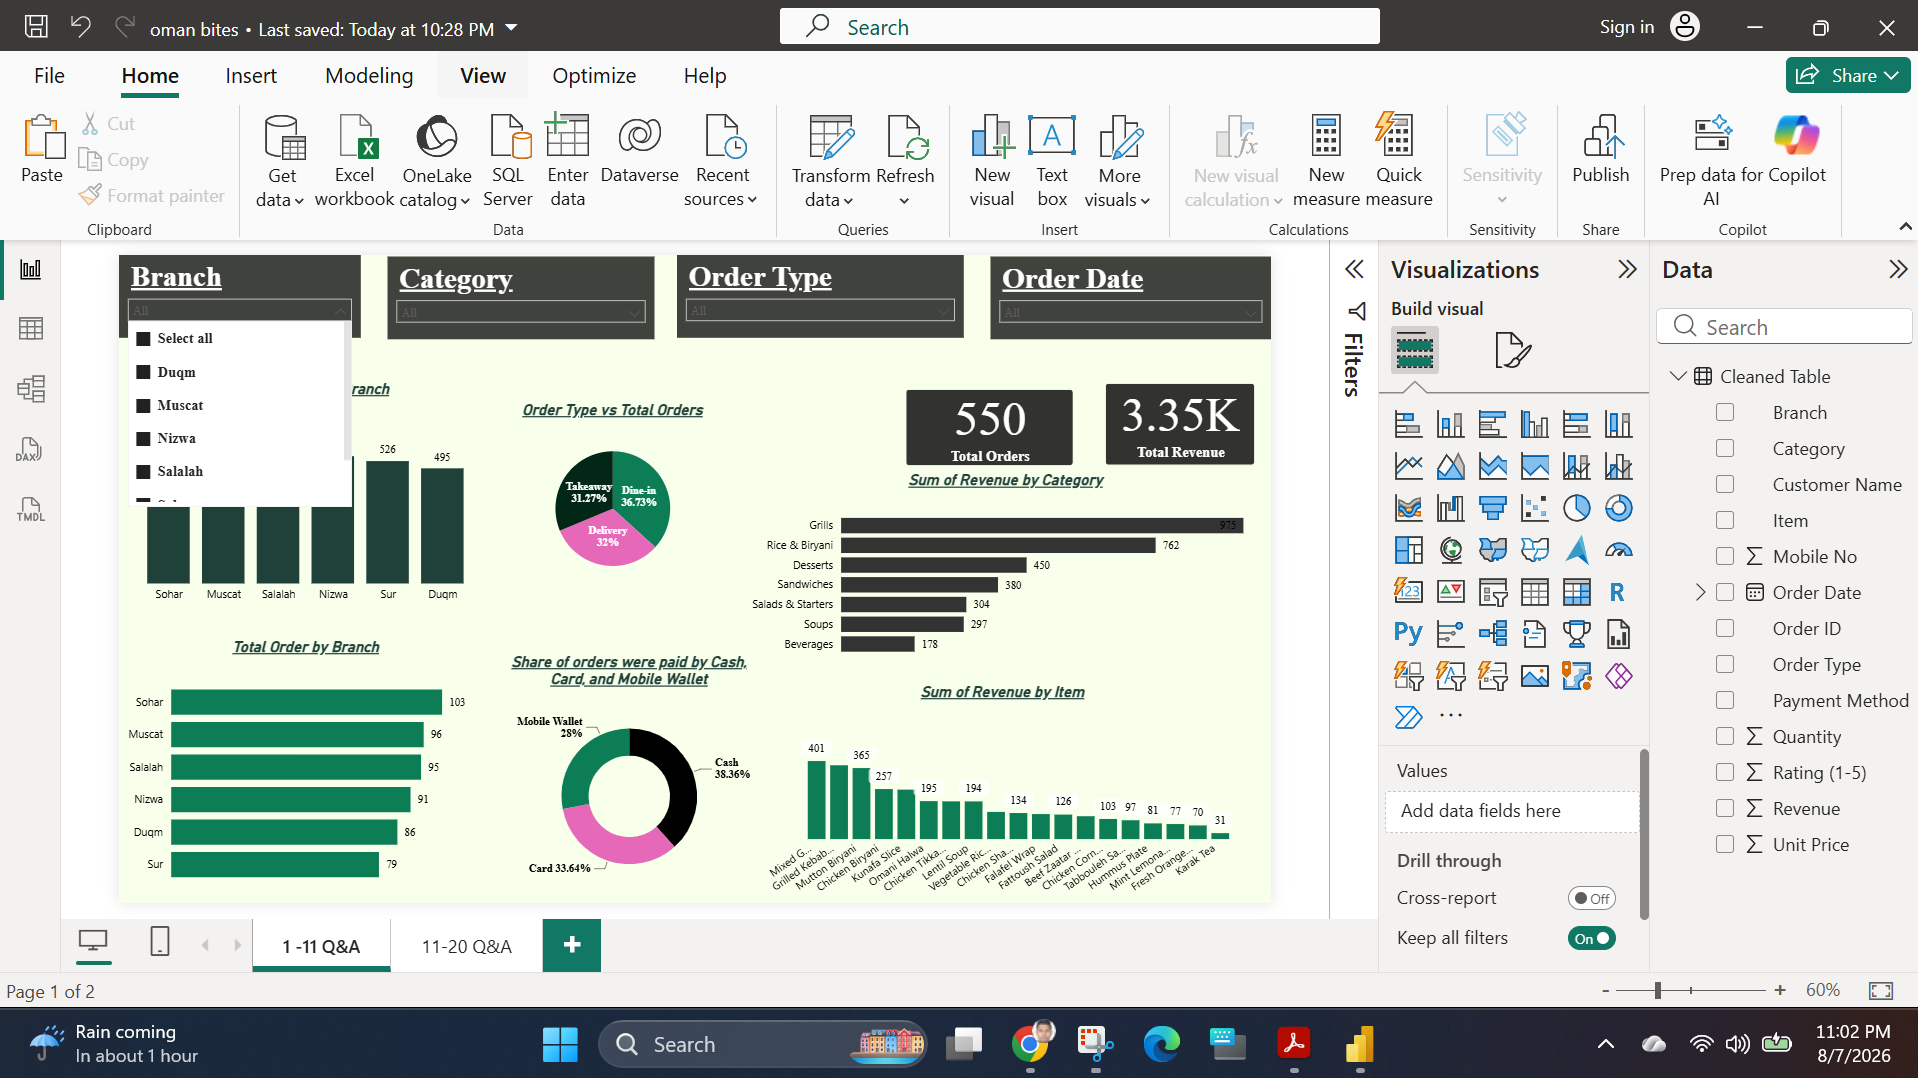

What the dashboard file says about the page in this screenshot:
{"tool":"powerbi","page":{"name":"1 -11 Q&A","canvas":[1280,720],"ordinal":0},"visuals":[{"type":"cardVisual","fields":{"Data":["Sum(Cleaned Table.Revenue)"]},"box":[1078.3,125,201.7,126.7],"z":0},{"type":"cardVisual","fields":{"Data":["CountNonNull(Cleaned Table.Order ID)"]},"box":[856.7,131.7,221.7,120],"z":1000},{"type":"columnChart","title":"Total Revenue by Branch","fields":{"Y":["Sum(Cleaned Table.Revenue)"],"Category":["Cleaned Table.Branch"]},"box":[1.7,138.3,411.7,256.7],"z":2000},{"type":"barChart","title":"Total Order by Branch","fields":{"Category":["Cleaned Table.Branch"],"Y":["CountNonNull(Cleaned Table.Order ID)"]},"box":[1.7,425,411.7,286.7],"z":3000},{"type":"barChart","fields":{"Category":["Cleaned Table.Category"],"Y":["Sum(Cleaned Table.Revenue)"]},"box":[690,240,590,215],"z":4000},{"type":"donutChart","title":"Share of orders were paid by Cash, Card, and Mobile Wallet","fields":{"Category":["Cleaned Table.Payment Method"],"Y":["Divide(CountNonNull(Cleaned Table.Order ID), ScopedEval(CountNonNull(Cleaned Table.Order ID), []))"]},"box":[423.3,441.7,286.7,270],"z":5000},{"type":"pieChart","title":"Order Type vs Total Orders","fields":{"Category":["Cleaned Table.Order Type"],"Y":["Count(Cleaned Table.Order ID)"]},"box":[406.7,161.7,283.3,210],"z":6000},{"type":"lineClusteredColumnComboChart","fields":{"Category":["Cleaned Table.Item"],"Y":["Sum(Cleaned Table.Revenue)"]},"box":[715,475,533.3,245],"z":7000},{"type":"slicer","fields":{"Values":["Cleaned Table.Branch"]},"box":[0,0,268.3,91.7],"z":7001},{"type":"slicer","fields":{"Values":["Cleaned Table.Category"]},"box":[298.3,1.7,296.7,91.7],"z":7002},{"type":"slicer","fields":{"Values":["Cleaned Table.Order Type"]},"box":[620,0,318.3,91.7],"z":7003},{"type":"slicer","fields":{"Values":["Cleaned Table.Order Date"]},"box":[968.3,1.7,311.7,91.7],"z":7004}]}

Visuals, with their boxes on the page's 1280x720 design canvas (x1, y1, x2, y2). These are canvas units, not pixel positions in the 1918x1078 screenshot, which may show the page scaled, cropped or inside an application window:
cardVisual - Sum(Cleaned Table.Revenue): [1078,125,1280,252]
cardVisual - CountNonNull(Cleaned Table.Order ID): [857,132,1078,252]
"Total Revenue by Branch" columnChart: [2,138,413,395]
"Total Order by Branch" barChart: [2,425,413,712]
barChart - Cleaned Table.Category x Sum(Cleaned Table.Revenue): [690,240,1280,455]
"Share of orders were paid by Cash, Card, and Mobile Wallet" donutChart: [423,442,710,712]
"Order Type vs Total Orders" pieChart: [407,162,690,372]
lineClusteredColumnComboChart - Cleaned Table.Item x Sum(Cleaned Table.Revenue): [715,475,1248,720]
slicer - Cleaned Table.Branch: [0,0,268,92]
slicer - Cleaned Table.Category: [298,2,595,93]
slicer - Cleaned Table.Order Type: [620,0,938,92]
slicer - Cleaned Table.Order Date: [968,2,1280,93]
